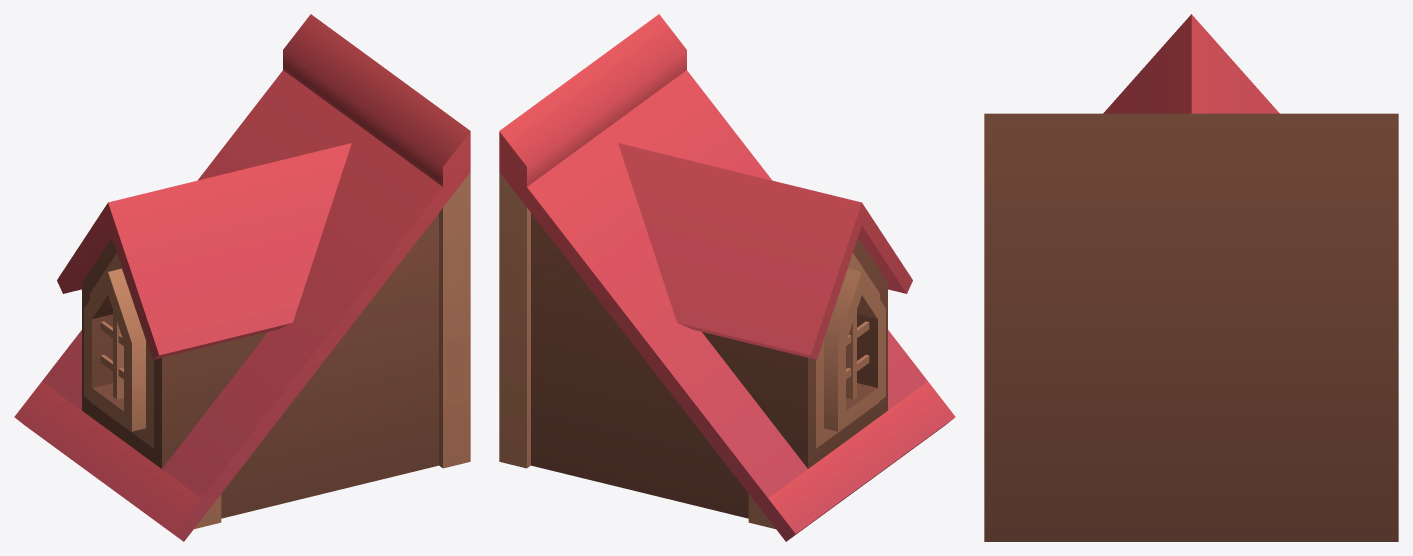
File: roof-high-window.glb
3 views of the same model, side by side, from view 1: azimuth 30°, elevation 25°; view 2: azimuth 150°, elevation 25°; view 3: azimuth 270°, elevation 25° (orthographic). The views are drawn at different scales.
Parts seen in each view (by area): view 1: roof-high-window; view 2: roof-high-window; view 3: roof-high-window.
Boxes of the visible parts, bbox=[...] form: roof-high-window: bbox=[14, 14, 470, 541]; roof-high-window: bbox=[499, 14, 955, 541]; roof-high-window: bbox=[984, 14, 1398, 541].
Bounding box in the file's own units: 1.07 × 1.18 × 1.
1 material, 1 textured.
